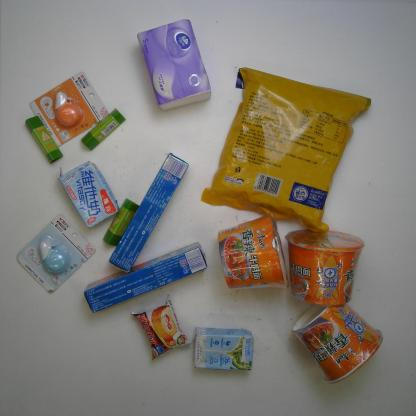Dessert: (129, 289, 197, 365)
Dried Food: (199, 66, 372, 233)
Instant Noodles: (290, 301, 386, 385), (283, 225, 365, 309), (217, 210, 290, 292)
Milk: (56, 158, 120, 229), (193, 325, 256, 372)
Personal Hygiene: (108, 150, 189, 274), (83, 240, 208, 314)
Stationery: (14, 210, 97, 296), (28, 70, 109, 150), (80, 107, 127, 152), (24, 114, 64, 166), (102, 196, 141, 248)
Tissue: (136, 18, 214, 114)
